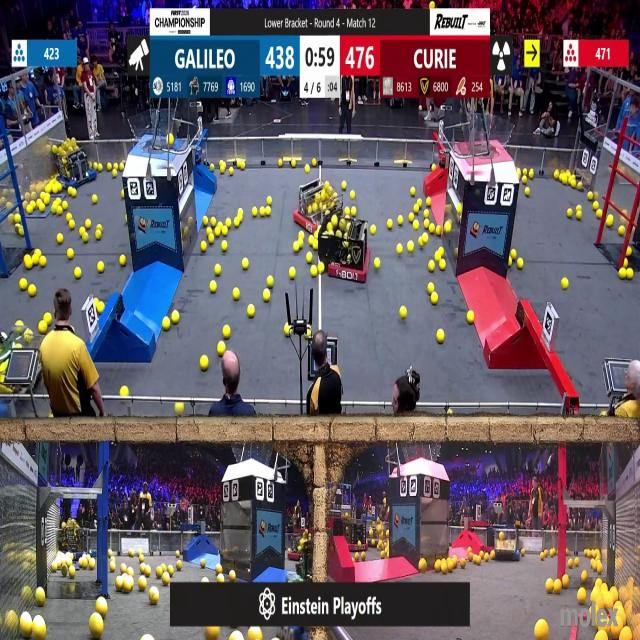ball_airborne: (22, 616, 34, 639), (34, 620, 46, 640), (207, 626, 220, 640), (169, 136, 174, 146)
ball_ground: (91, 616, 104, 638), (535, 621, 547, 639), (97, 598, 108, 615), (36, 589, 45, 607), (149, 588, 158, 605), (577, 589, 585, 605), (201, 356, 210, 370), (175, 404, 184, 417), (122, 581, 131, 594), (217, 342, 225, 356), (172, 311, 180, 325), (545, 580, 553, 594), (438, 331, 446, 344), (37, 323, 44, 337), (555, 580, 562, 594), (466, 312, 474, 324), (164, 318, 172, 330), (264, 289, 272, 301), (139, 576, 147, 588), (222, 325, 229, 338), (562, 575, 569, 588), (620, 269, 628, 280), (18, 279, 26, 290), (43, 313, 51, 324), (419, 559, 426, 571), (562, 278, 569, 290), (430, 292, 437, 304), (234, 288, 241, 300), (210, 281, 217, 293), (399, 307, 406, 319), (29, 284, 36, 296), (26, 258, 33, 270), (579, 570, 586, 582), (120, 386, 128, 396), (116, 579, 122, 592), (98, 263, 105, 274), (268, 277, 275, 288), (627, 269, 634, 280), (214, 266, 221, 277), (164, 573, 171, 584), (408, 242, 415, 253), (210, 216, 217, 227), (98, 303, 105, 314), (91, 559, 98, 570), (434, 561, 441, 572), (68, 248, 74, 260), (75, 268, 81, 280), (119, 254, 125, 266), (289, 268, 295, 280), (248, 306, 254, 318), (606, 215, 612, 227), (284, 324, 290, 336), (428, 282, 434, 294), (307, 252, 314, 262), (140, 564, 147, 574), (311, 268, 318, 278), (69, 567, 76, 577), (230, 570, 237, 580), (473, 556, 480, 566), (40, 256, 46, 267), (243, 260, 249, 271), (516, 261, 522, 272), (202, 242, 208, 253), (375, 257, 381, 268), (446, 221, 452, 232), (422, 234, 428, 245), (16, 224, 22, 235), (232, 632, 240, 640), (155, 567, 162, 576), (109, 563, 116, 572), (620, 225, 626, 235), (58, 234, 64, 244), (435, 224, 441, 234), (93, 193, 99, 203), (396, 244, 402, 254), (318, 265, 324, 275), (235, 218, 241, 228), (387, 218, 393, 228), (221, 242, 227, 252), (428, 262, 434, 272), (423, 219, 429, 229), (204, 216, 210, 226), (176, 560, 182, 570), (512, 249, 518, 259), (292, 240, 298, 250), (397, 215, 403, 225), (309, 237, 315, 247), (434, 251, 440, 261), (460, 558, 466, 568), (80, 559, 86, 569), (217, 574, 224, 582), (15, 320, 22, 328), (34, 249, 41, 257), (252, 208, 258, 217), (82, 234, 88, 243), (596, 210, 602, 219), (259, 207, 265, 216), (411, 186, 417, 195), (68, 220, 74, 229), (528, 170, 534, 179), (169, 566, 175, 575), (68, 187, 74, 196), (413, 220, 419, 229), (238, 208, 244, 217), (39, 204, 45, 213), (561, 175, 567, 184), (596, 577, 602, 586), (51, 205, 57, 214), (370, 224, 375, 234), (441, 262, 446, 272), (410, 212, 415, 222), (507, 258, 512, 268), (440, 248, 445, 258), (457, 204, 462, 214), (290, 161, 296, 169), (221, 229, 227, 237), (216, 565, 222, 573), (354, 554, 360, 562), (208, 236, 214, 244), (350, 190, 356, 198), (87, 220, 93, 228), (524, 187, 530, 195), (484, 554, 490, 562), (429, 2, 435, 10), (66, 213, 72, 221), (28, 206, 34, 214), (596, 634, 604, 640), (240, 163, 246, 171), (567, 209, 572, 218), (225, 218, 230, 227), (426, 199, 431, 208), (343, 184, 348, 193), (267, 207, 272, 216), (120, 564, 125, 573), (215, 229, 220, 238), (130, 567, 135, 576), (142, 635, 151, 640), (203, 576, 209, 583), (627, 248, 633, 255), (227, 168, 233, 175), (522, 176, 528, 183), (517, 169, 523, 176), (414, 206, 420, 213), (551, 550, 557, 557), (447, 411, 453, 418), (130, 551, 136, 558), (97, 232, 102, 240), (589, 191, 594, 199), (268, 198, 273, 206), (624, 259, 629, 267), (593, 202, 598, 210), (424, 210, 429, 218), (555, 171, 560, 179), (297, 232, 302, 240), (351, 208, 356, 216), (58, 207, 63, 215), (567, 560, 572, 568), (491, 552, 496, 560), (575, 212, 580, 220), (576, 182, 581, 190), (14, 215, 19, 223), (210, 165, 215, 173), (574, 558, 579, 566), (207, 226, 212, 234), (108, 550, 113, 558), (113, 164, 118, 172), (523, 169, 528, 177), (361, 553, 365, 562), (451, 246, 455, 255), (140, 556, 145, 563), (98, 165, 103, 172), (381, 553, 386, 560), (308, 329, 312, 337), (112, 170, 116, 178), (202, 559, 206, 567), (306, 166, 310, 174), (313, 160, 317, 168), (64, 202, 68, 210), (540, 553, 544, 561), (279, 159, 283, 167), (346, 208, 350, 216), (431, 165, 435, 173), (97, 224, 102, 230), (108, 165, 112, 172), (220, 167, 224, 174), (119, 165, 123, 172), (176, 552, 180, 559), (80, 226, 84, 233), (521, 550, 525, 557), (565, 550, 569, 557), (120, 190, 123, 198)
goal: (460, 118, 517, 158), (129, 116, 186, 152)
robot_blue: (52, 139, 96, 189), (491, 526, 522, 559), (60, 522, 87, 558)
robot_red: (320, 214, 370, 282), (294, 181, 342, 234), (346, 522, 370, 550), (286, 536, 302, 561)
